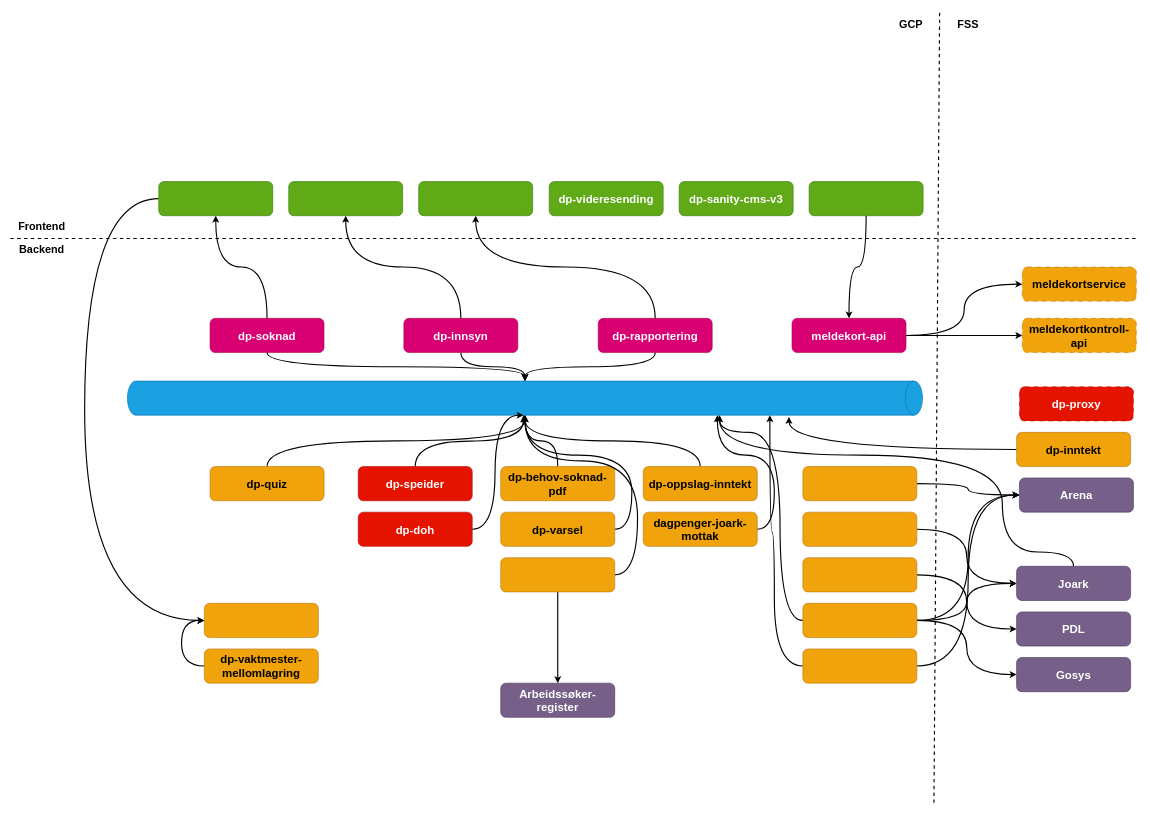
The diagram is 1150 pixels wide and 813 high, and some of its shapes have lost their labels. The shapes that lost their labels are listed below. From the top down, each one's box as (x1, y1, x2, y2) in pixels, then its label:
(158, 181, 273, 216): dp-soknadsdialog
(288, 181, 403, 216): dp-dagpenger
(418, 181, 533, 216): dp-rapportering-frontend
(809, 181, 923, 216): meldekort
(127, 380, 923, 415): Rapid
(802, 466, 917, 501): dp-oppslag-vedtak
(802, 512, 917, 546): dp-behov-journalforing
(500, 557, 615, 592): dp-oppslag-arbeidssøker
(802, 557, 917, 592): dp-oppslag-person
(204, 603, 318, 638): dp-mellomlagring
(802, 603, 917, 638): dp-mottak
(802, 648, 917, 683): dp-arena-sink
